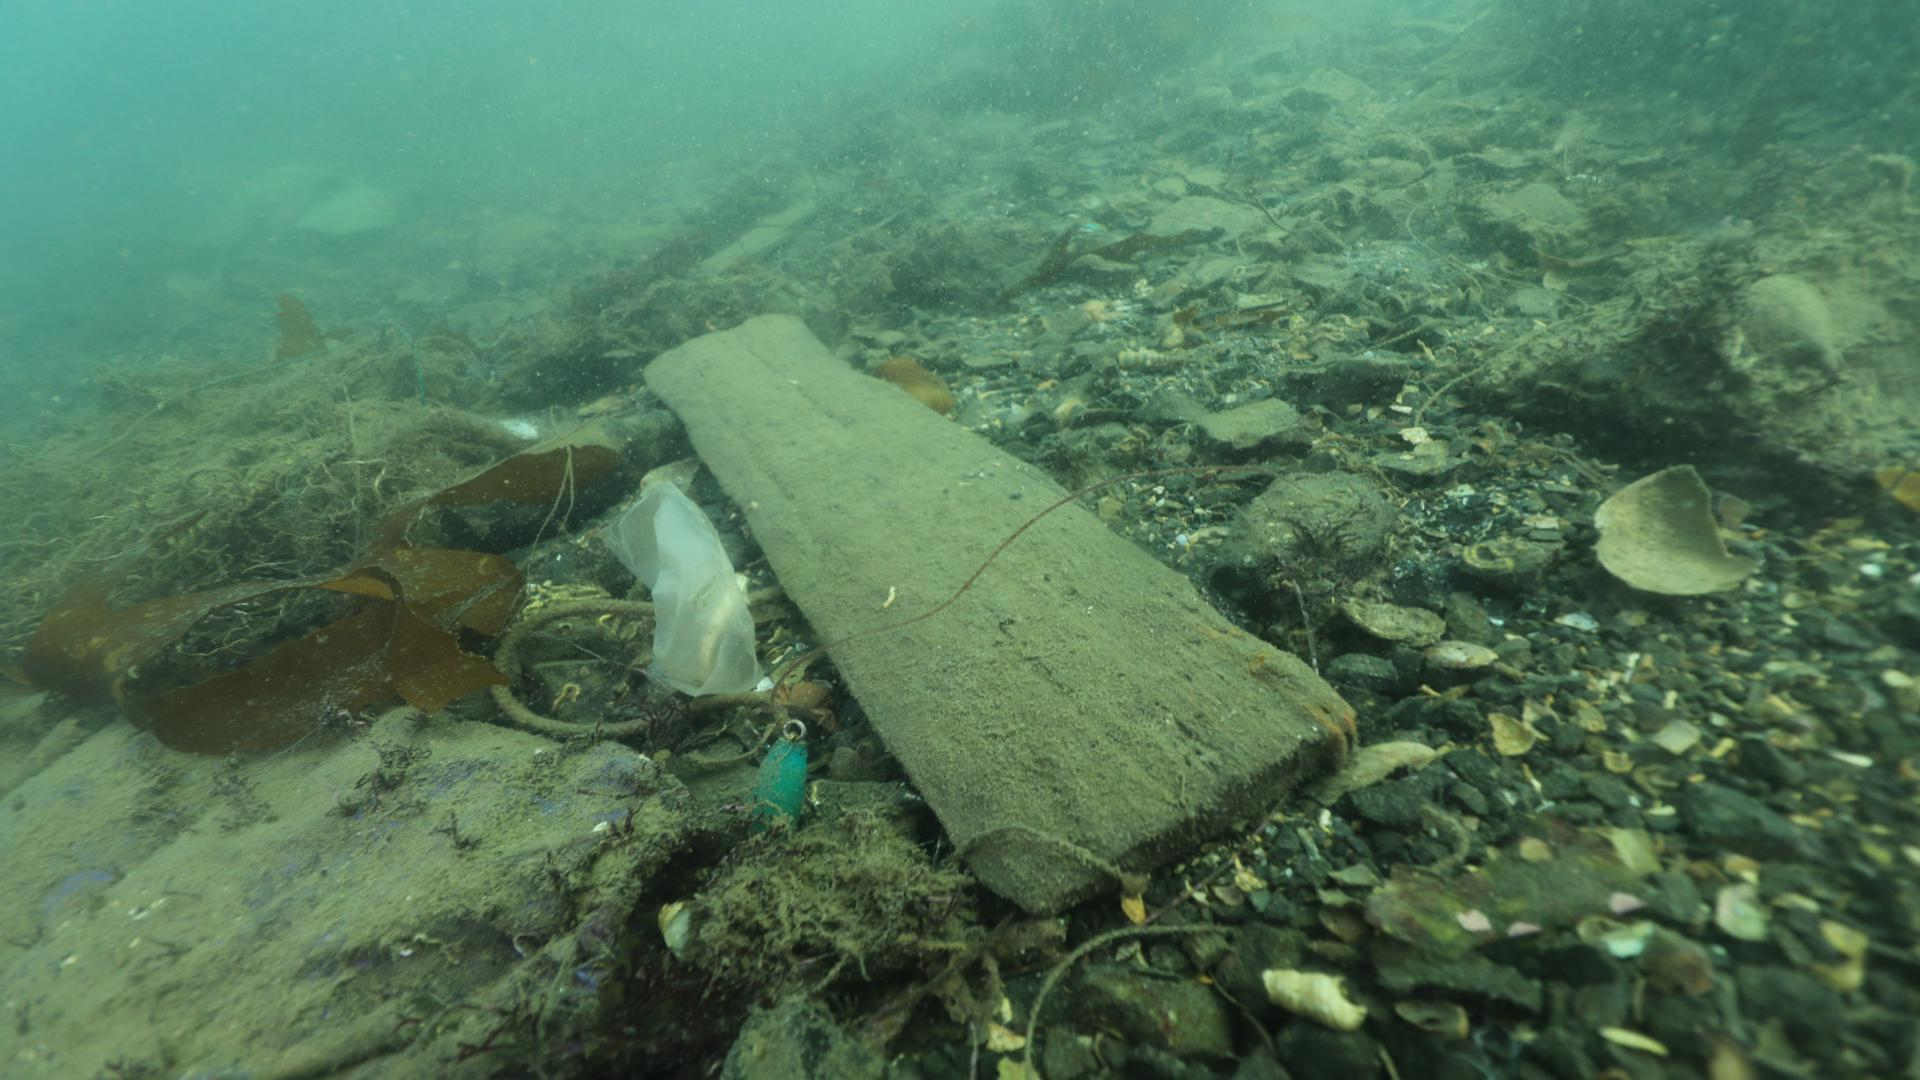wood: (626, 305, 1371, 909)
